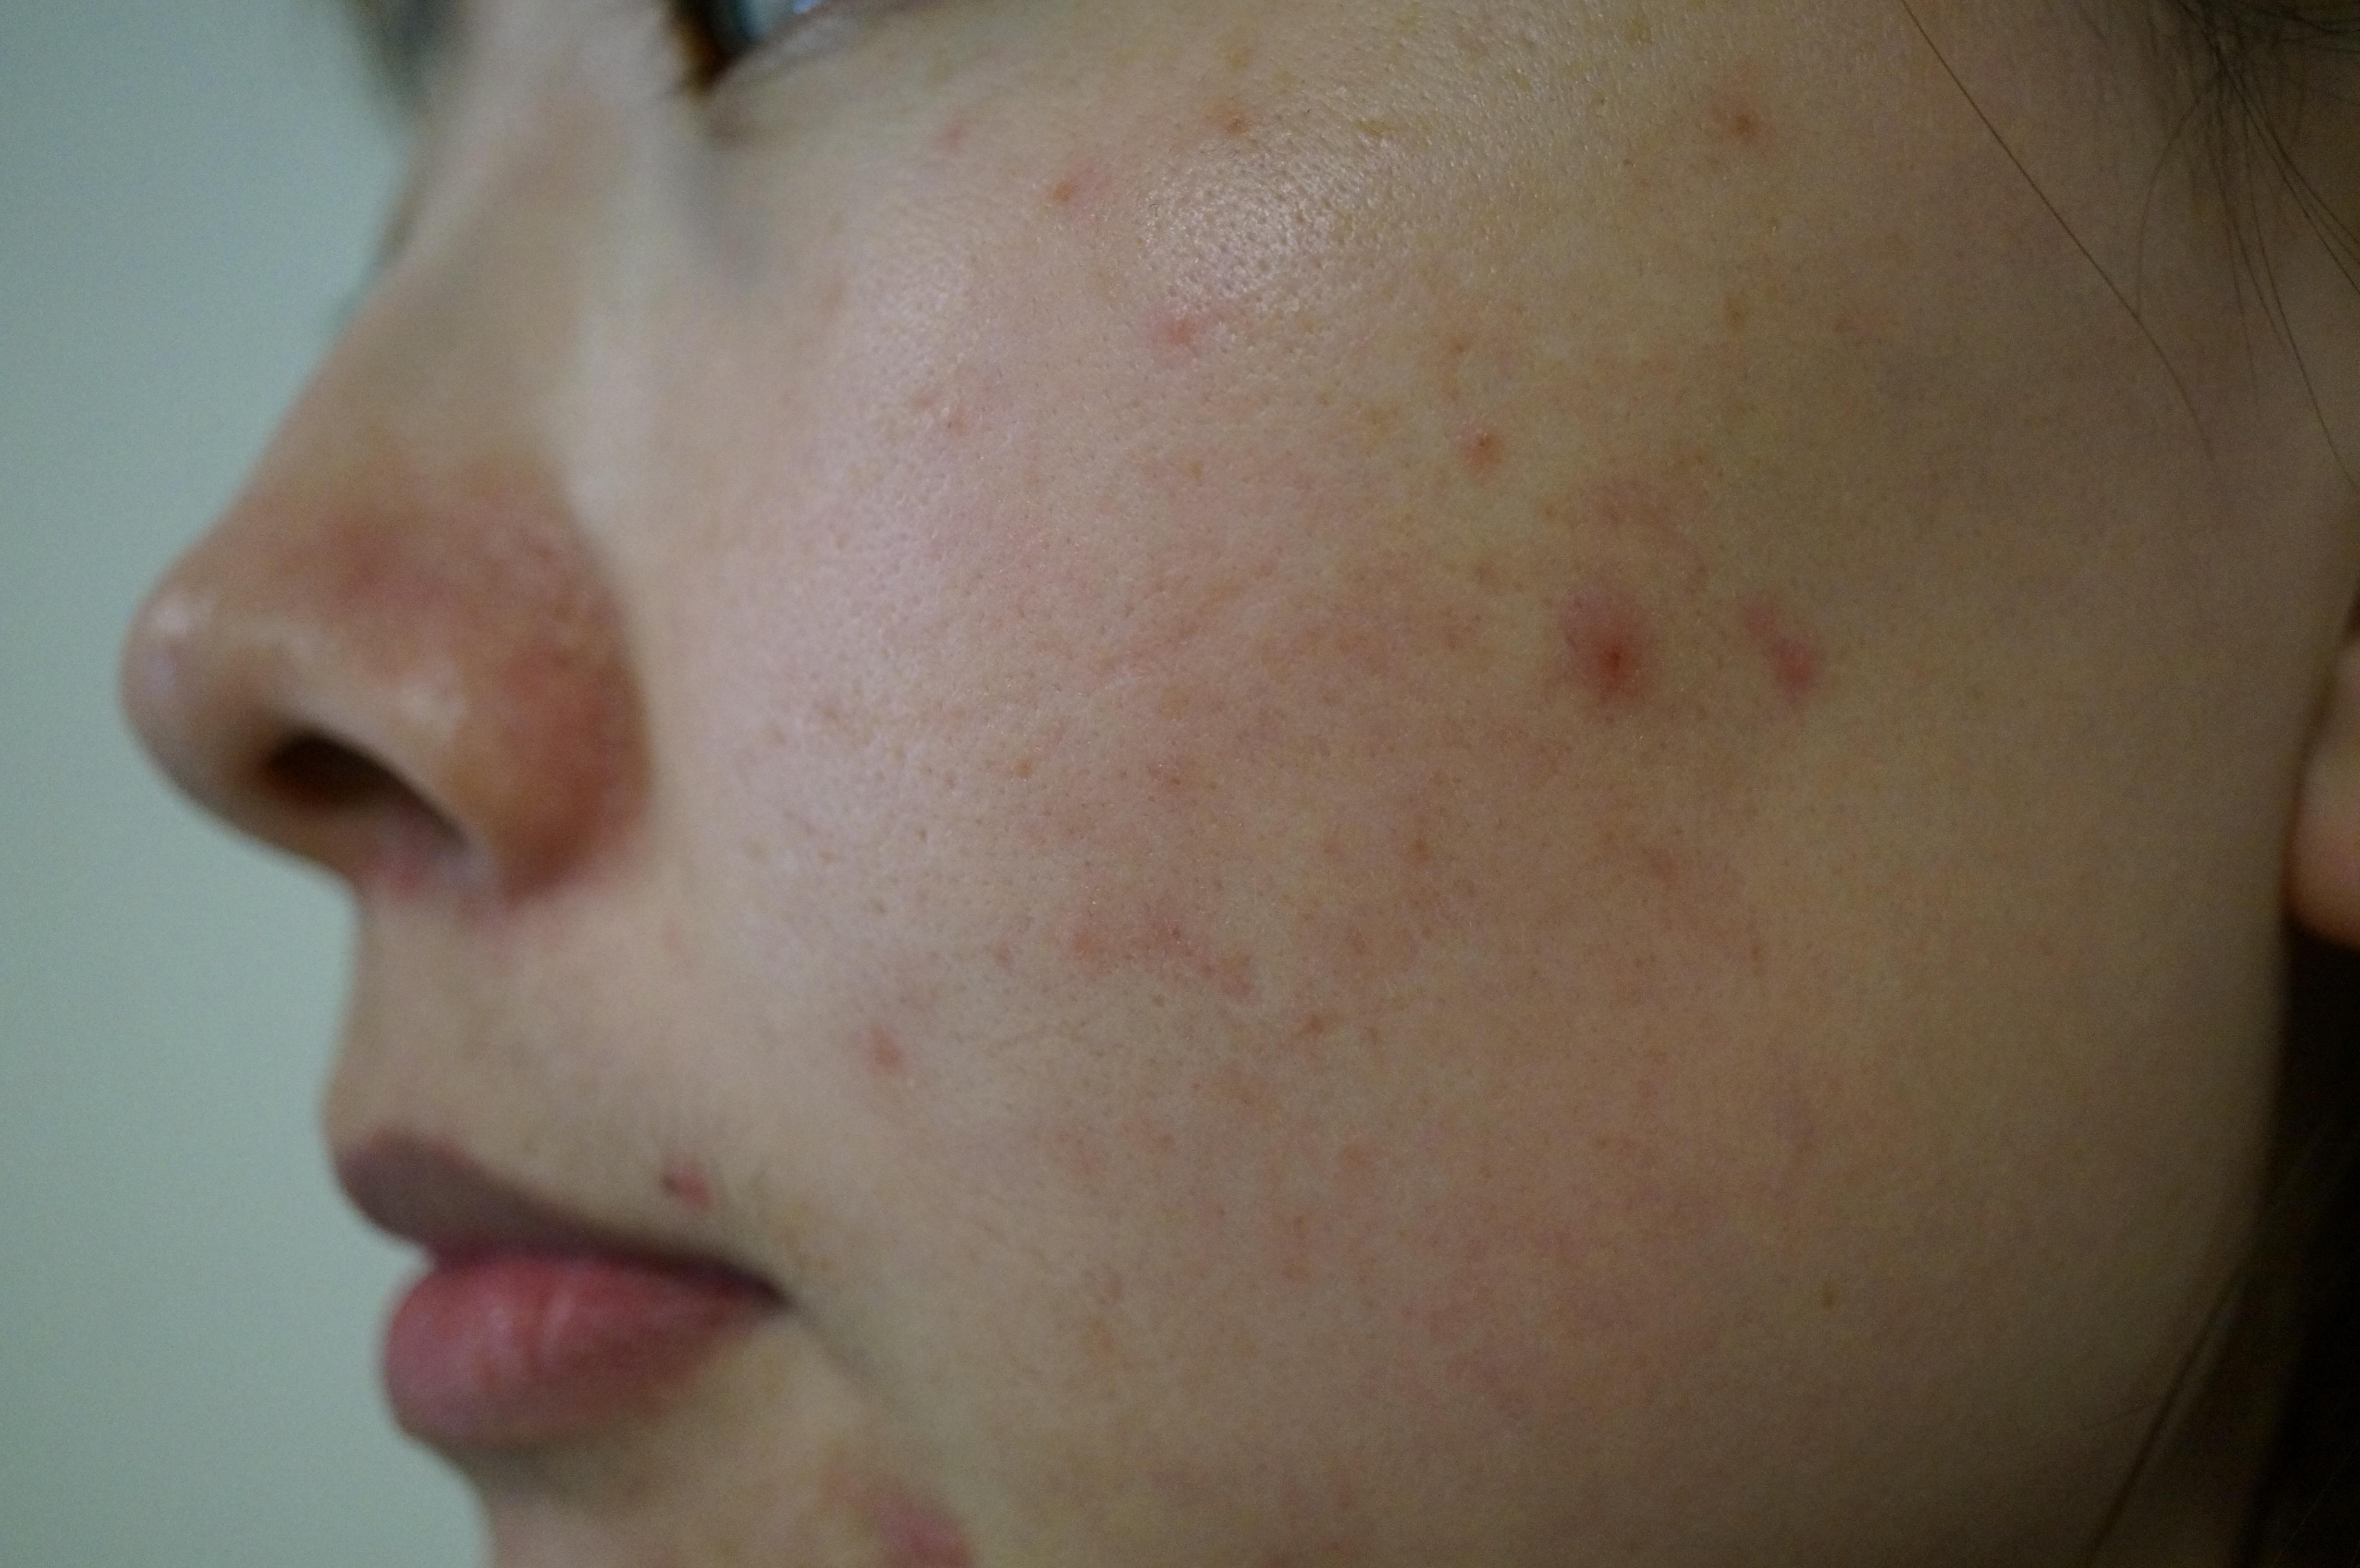fore: (1732, 572, 1879, 752), (805, 1428, 1009, 1556), (611, 1108, 730, 1267), (1508, 612, 1685, 717)
